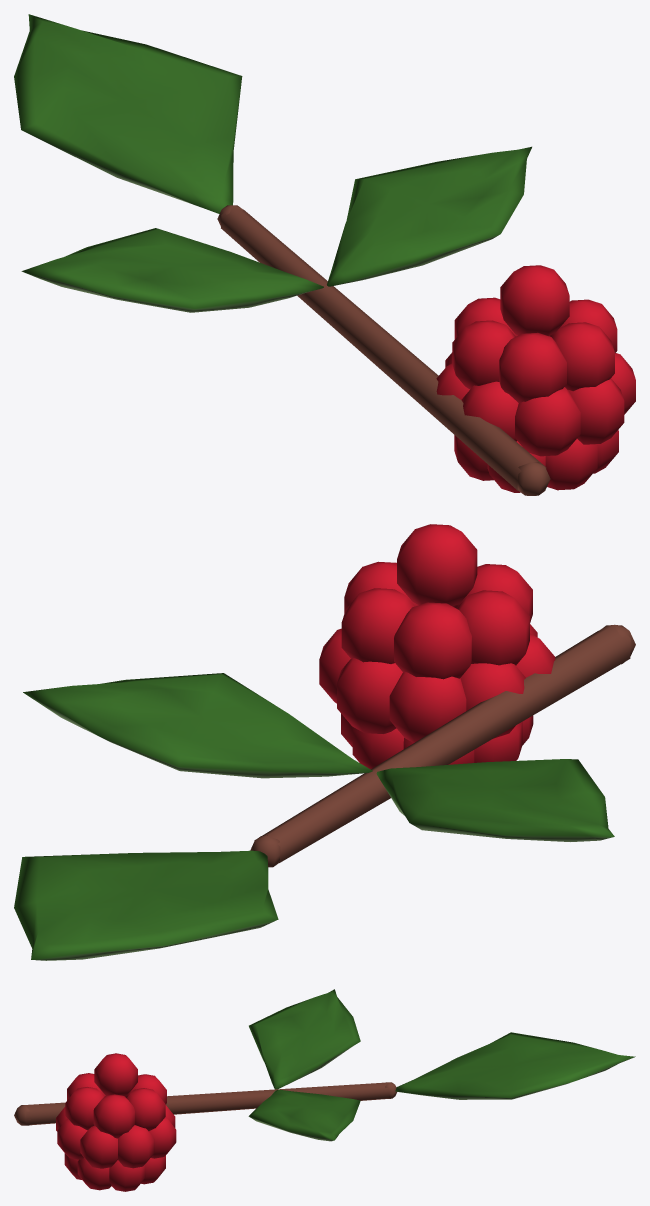
File: RaspLeaf.glb
3 views of the same model, one above another, from view 1: azimuth 30°, elevation 25°; view 2: azimuth 150°, elevation 25°; view 3: azimuth 270°, elevation 25° (orthographic). The views are drawn at different scales.
Parts seen in each view (by area): view 1: RaspLeaves, Raspberry, Stalk; view 2: RaspLeaves, Raspberry, Stalk; view 3: RaspLeaves, Raspberry, Stalk.
Part boxes in pixels (x1,y1,x2,y2): RaspLeaves: (14, 14, 531, 312); Raspberry: (436, 265, 635, 492); Stalk: (217, 205, 550, 495); RaspLeaves: (14, 673, 614, 960); Raspberry: (319, 524, 555, 769); Stalk: (250, 624, 635, 867); RaspLeaves: (248, 989, 635, 1141); Raspberry: (56, 1053, 176, 1191); Stalk: (14, 1082, 396, 1125).
Size of the model in its own units: 0.0788 by 0.0299 by 0.1369.
